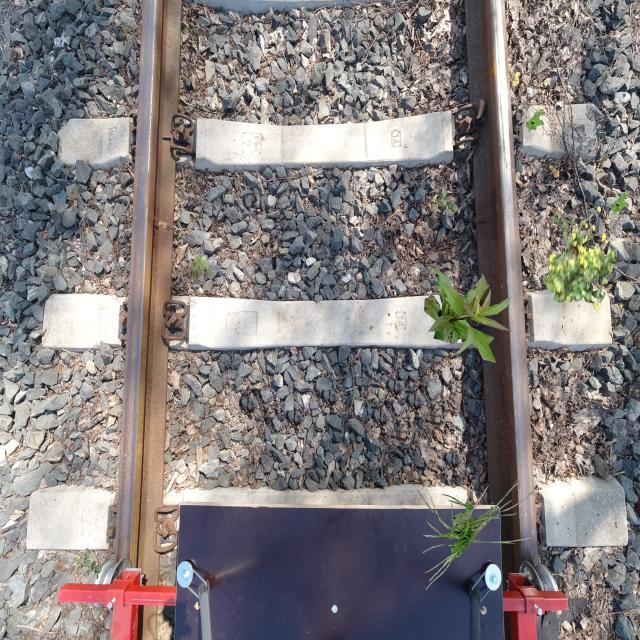Plant: (415, 468, 534, 590), (424, 266, 512, 364), (543, 206, 618, 311), (74, 548, 102, 578), (551, 209, 578, 240), (431, 187, 458, 218), (188, 253, 214, 285), (526, 108, 546, 132), (611, 191, 630, 216)
